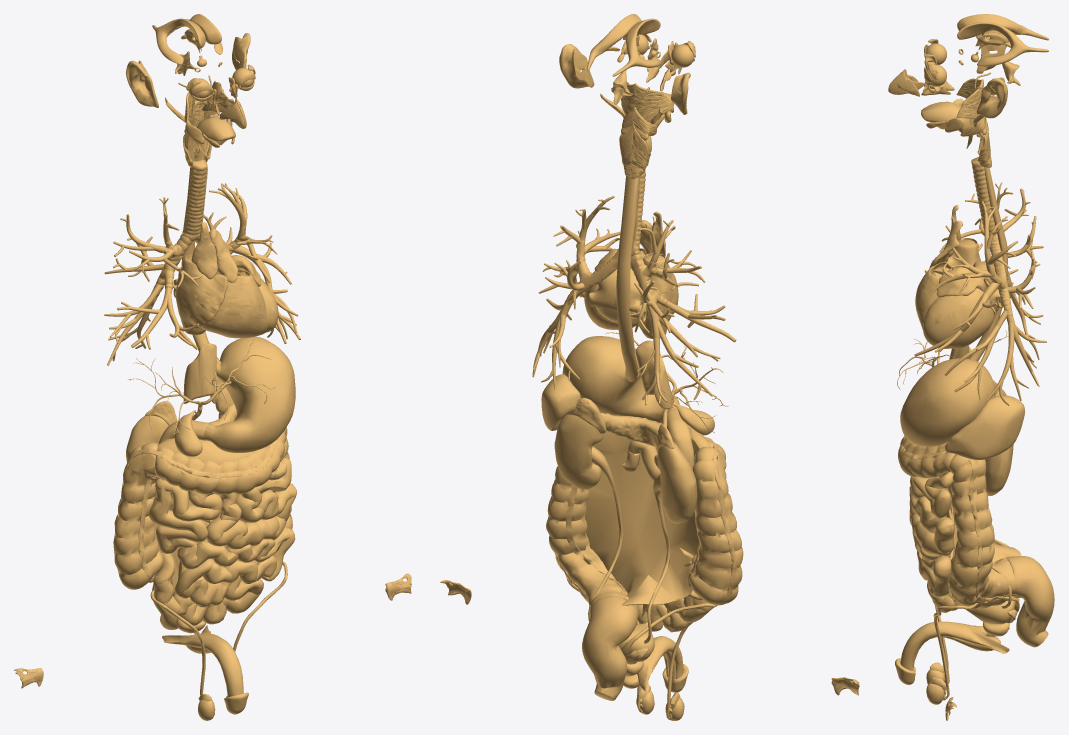
File: orgaos.glb
3 views of the same model, side by side, from view 1: azimuth 30°, elevation 25°; view 2: azimuth 150°, elevation 25°; view 3: azimuth 270°, elevation 25° (orthographic). The views are drawn at different scales.
Visible parts, largest first — view 1: FJ2564, FJ2566, FJ2572, FJ2428, FJ2439, FJ3132, FJ2811, FJ2816, FJ2541, FJ2621, FJ2570, FJ3147 (+7 smaller); view 2: FJ3398, FJ2566, FJ2564, FJ2567, FJ2571, FJ2563, FJ3145, FJ3147, FJ2811, FJ2573, FJ2561, FJ2438 (+18 smaller); view 3: FJ2567, FJ2564, FJ2428, FJ2561, FJ2571, FJ3132, FJ2572, FJ2811, FJ1767, FJ2438, FJ2570, FJ2563 (+29 smaller).
Part boxes in pixels (box(x1,y1,x2,y2)): FJ2564: box(203, 336, 295, 452); FJ2566: box(113, 442, 163, 589); FJ2572: box(154, 428, 286, 495); FJ2428: box(201, 269, 278, 338); FJ2439: box(175, 254, 227, 334); FJ3132: box(162, 625, 243, 697); FJ2811: box(126, 33, 250, 107); FJ2816: box(183, 343, 216, 403); FJ2541: box(182, 159, 207, 240); FJ2621: box(148, 484, 207, 542); FJ2570: box(113, 439, 277, 577); FJ3147: box(126, 415, 168, 462); FJ3398: box(585, 422, 710, 605); FJ2566: box(689, 446, 743, 604); FJ2564: box(562, 336, 679, 423); FJ2567: box(546, 445, 638, 618); FJ2571: box(582, 596, 637, 700); FJ2563: box(616, 176, 640, 381); FJ3145: box(554, 415, 603, 489); FJ3147: box(657, 442, 697, 523); FJ2811: box(559, 44, 690, 114); FJ2573: box(628, 409, 694, 481); FJ2561: box(541, 374, 580, 430); FJ2438: box(588, 248, 646, 322); FJ2567: box(948, 454, 1015, 609); FJ2564: box(900, 358, 995, 446); FJ2428: box(915, 261, 993, 348); FJ2561: box(945, 395, 1024, 459); FJ2571: box(1005, 556, 1054, 647); FJ3132: box(900, 621, 1009, 670); FJ2572: box(898, 437, 955, 478); FJ2811: box(976, 30, 1007, 118); FJ1767: box(957, 22, 1048, 66); FJ2438: box(936, 261, 1002, 313); FJ2570: box(899, 436, 1018, 602); FJ2563: box(968, 167, 1007, 361).
Bounding box in the file's own units: 0.5418 × 0.8896 × 0.1972.
